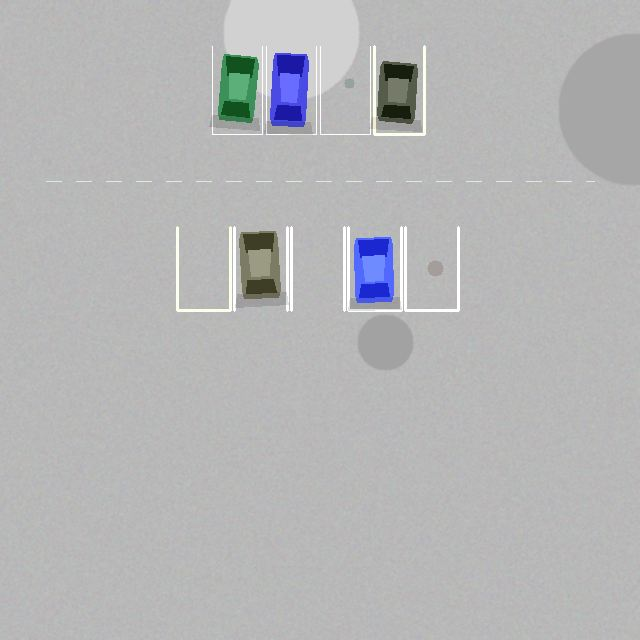space-empty: (320, 46, 370, 134), (177, 227, 230, 310), (291, 227, 344, 310), (405, 227, 458, 310)
space-occupied: (212, 46, 262, 134), (266, 46, 316, 134), (374, 46, 424, 134), (234, 227, 287, 310), (348, 227, 401, 310)
